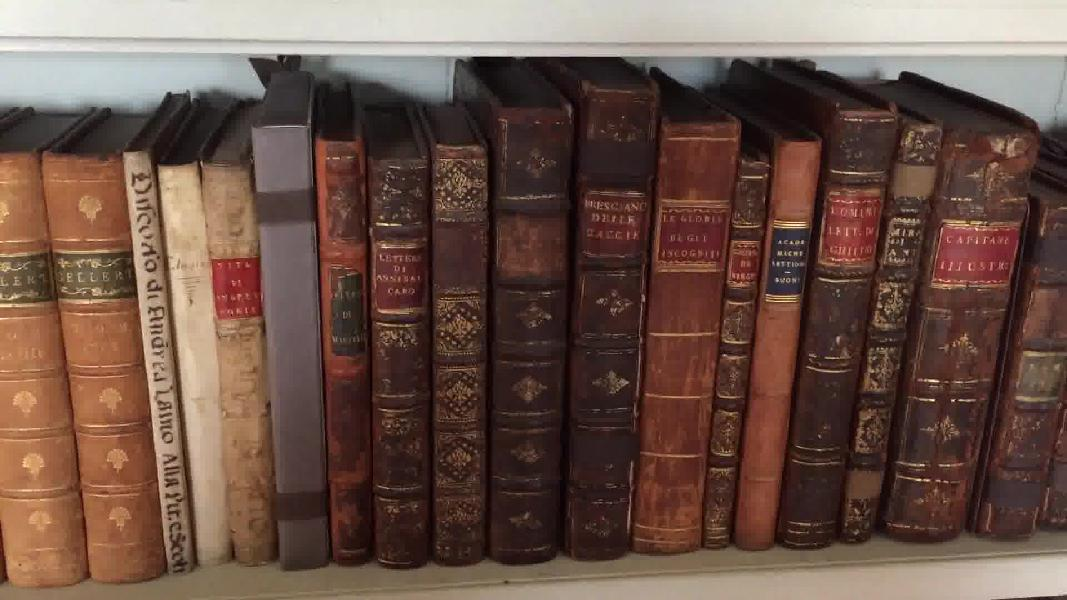Aa6-24: (123, 146, 208, 592)
Aa6-25: (155, 157, 240, 569)
Aa6-26: (193, 148, 293, 579)
Aa6-27: (252, 120, 333, 569)
Aa6-28: (304, 124, 388, 574)
Aa6-29: (371, 146, 448, 571)
Aa6-30: (419, 132, 501, 569)
Aa6-31: (483, 101, 571, 554)
Aa6-32: (574, 79, 658, 563)
Aa6-33: (640, 93, 723, 569)
Aa6-34: (702, 127, 770, 558)
Aa6-35: (736, 66, 819, 562)
Aa6-36: (783, 61, 892, 554)
Aa6-37: (852, 102, 933, 575)
Aa6-38: (896, 117, 1062, 558)
